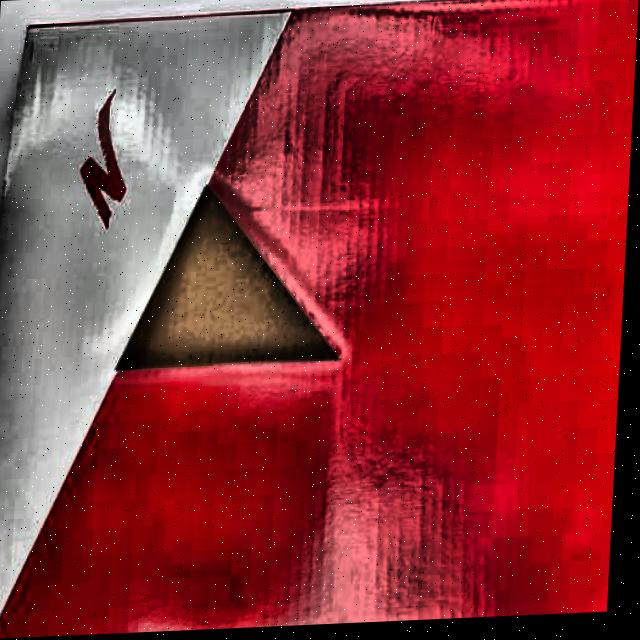cardboard: (0, 0, 639, 638)
